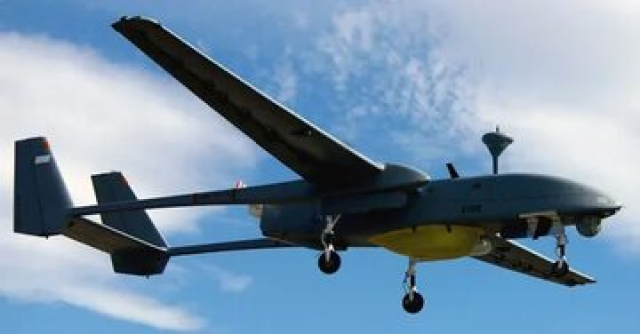military drone: (12, 13, 622, 314)
